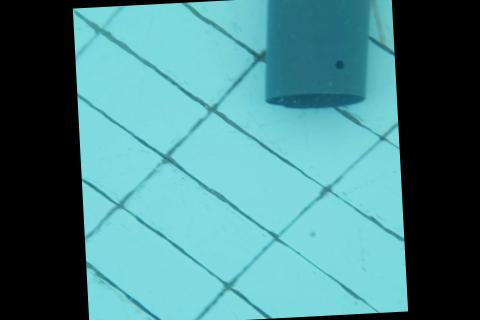kebocoran: (332, 58, 345, 70)
